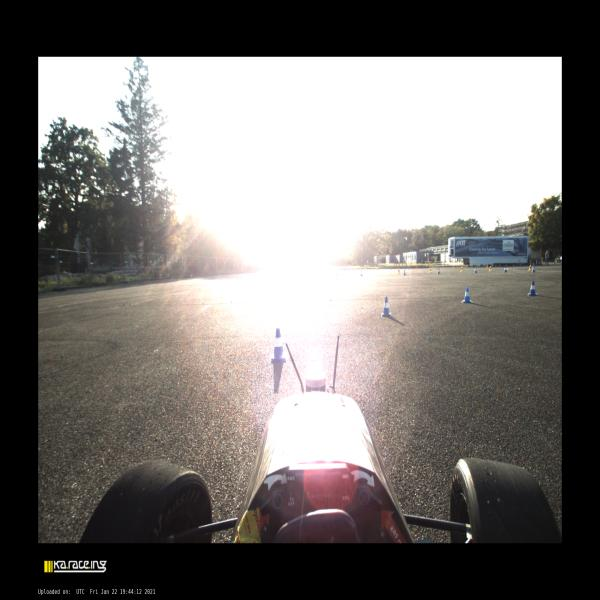blue_cone: (271, 328, 286, 361), (382, 296, 392, 317), (461, 286, 473, 302), (527, 281, 538, 296), (474, 267, 477, 273), (504, 266, 507, 272), (532, 266, 535, 272), (437, 268, 440, 274), (361, 271, 363, 277), (404, 270, 406, 275), (466, 265, 468, 268), (391, 267, 393, 270), (408, 267, 410, 270), (336, 273, 338, 276), (548, 262, 549, 266), (365, 268, 366, 270), (378, 268, 379, 270), (353, 268, 354, 270), (496, 265, 496, 267), (520, 264, 520, 266), (540, 262, 540, 264)
yellow_cone: (528, 265, 532, 271), (460, 266, 463, 272), (488, 266, 491, 271), (398, 268, 400, 274), (429, 267, 431, 273), (416, 266, 418, 270), (554, 262, 556, 266), (487, 264, 488, 268), (396, 268, 398, 270), (361, 268, 362, 272), (453, 265, 454, 268), (513, 264, 514, 267), (378, 269, 378, 270)
